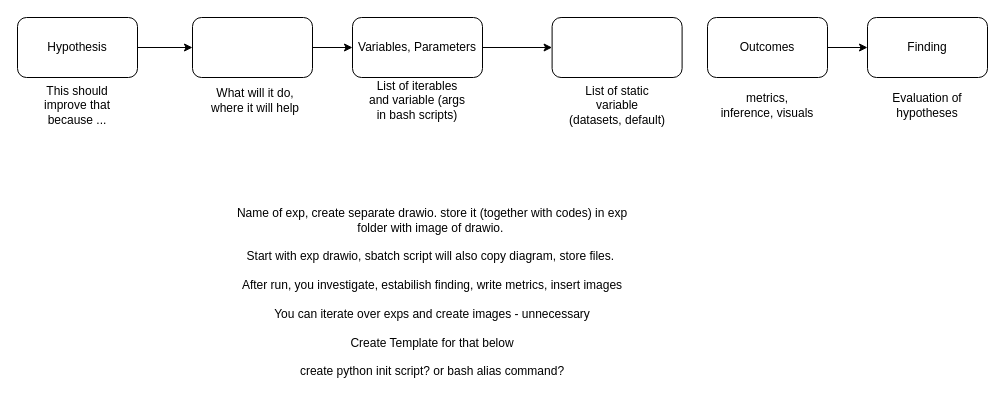
This 1005x396 diagram has some shape labels left out. Each missing label, with the box of its shape:
Expectation: (192, 16, 312, 78)
Static Variables: (551, 16, 682, 78)
